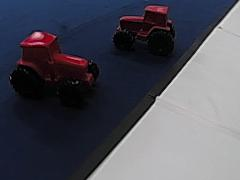Tracktor: (8, 29, 100, 99), (111, 3, 179, 54)
